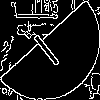I: (25, 25, 63, 69)
